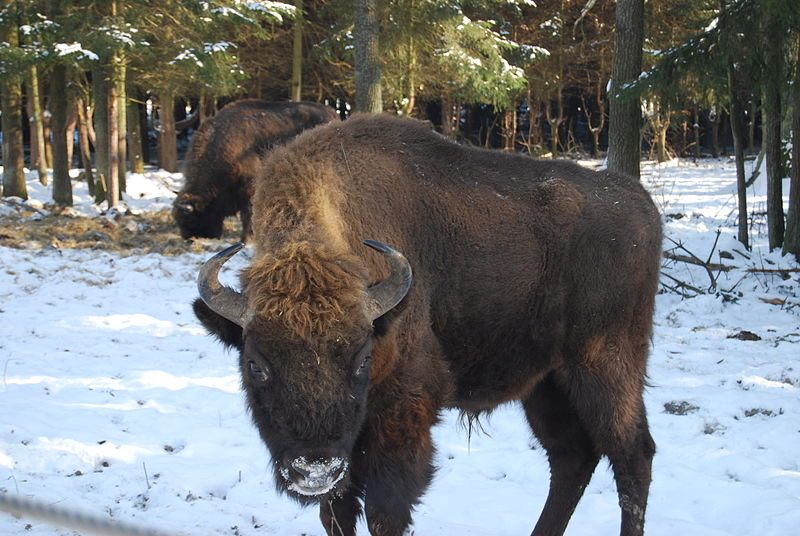zubr: (163, 99, 664, 536)
